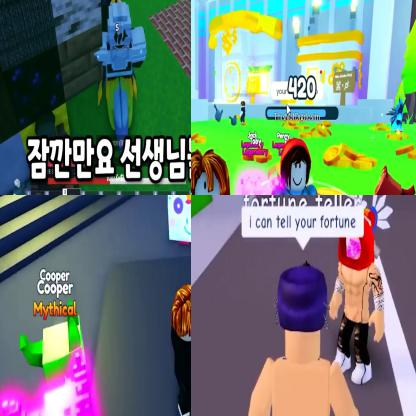Roblox-Avatar: (244, 259, 365, 416), (330, 196, 394, 386), (95, 3, 148, 82), (266, 138, 324, 195), (171, 284, 191, 416)
